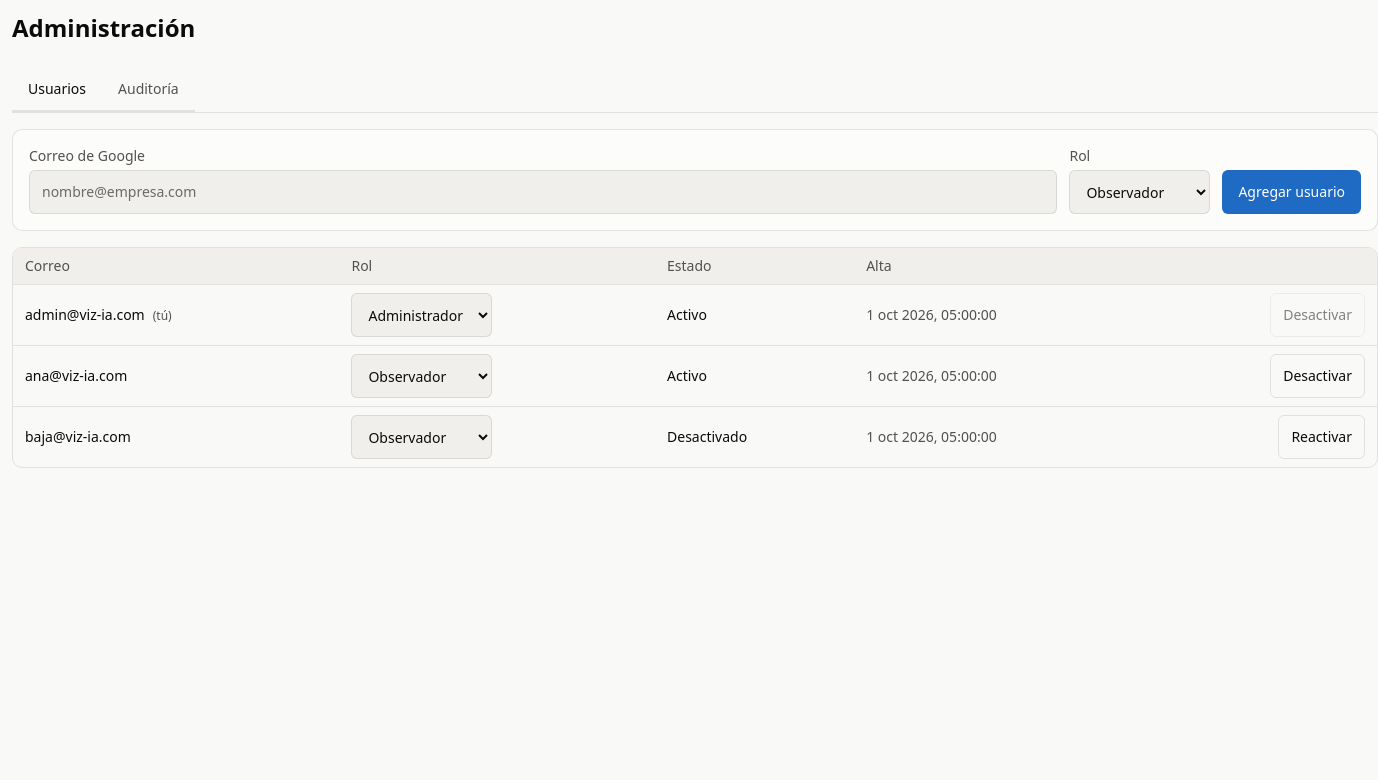
Scenario: AdminPage - usuarios › agrega un usuario con el correo en minúsculas y el rol elegido
The image size is (1378, 780).
Type " Nuevo@Viz-IA.com " into the field labelled "Correo de Google" at (543, 192), box [29,170,1057,214]
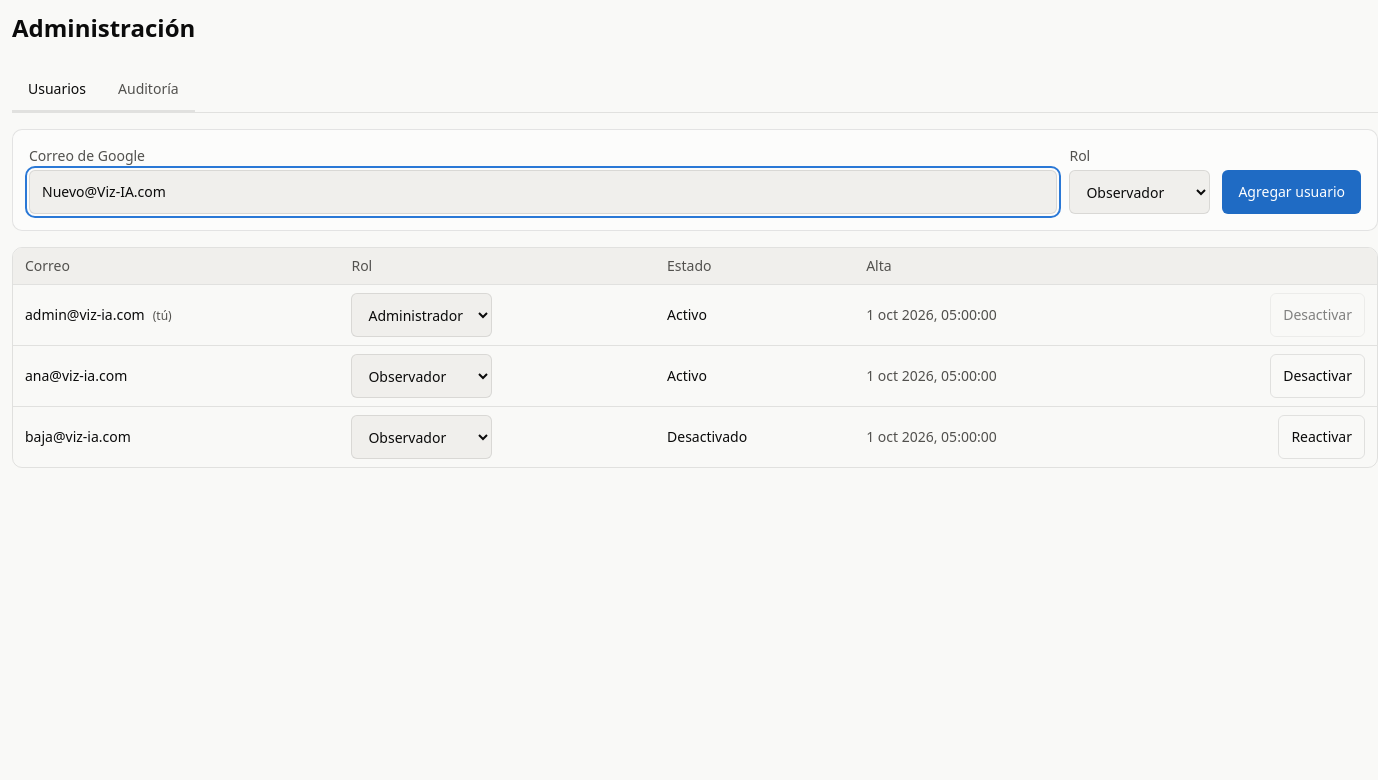
Select "Operador" in the dropdown labelled "Rol" at (1140, 192), box [1069,170,1210,214]
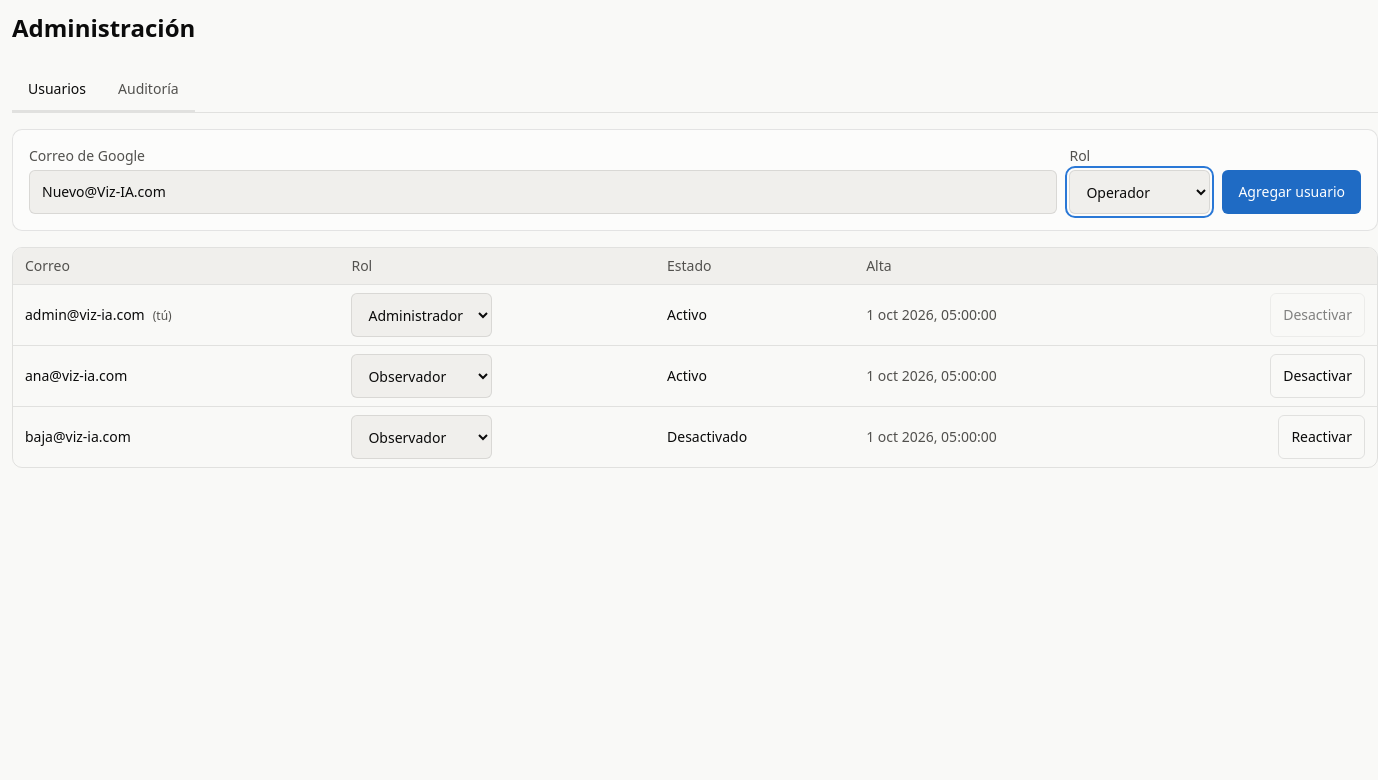
Click the button "Agregar usuario" at (1292, 192), box [1222,170,1361,214]
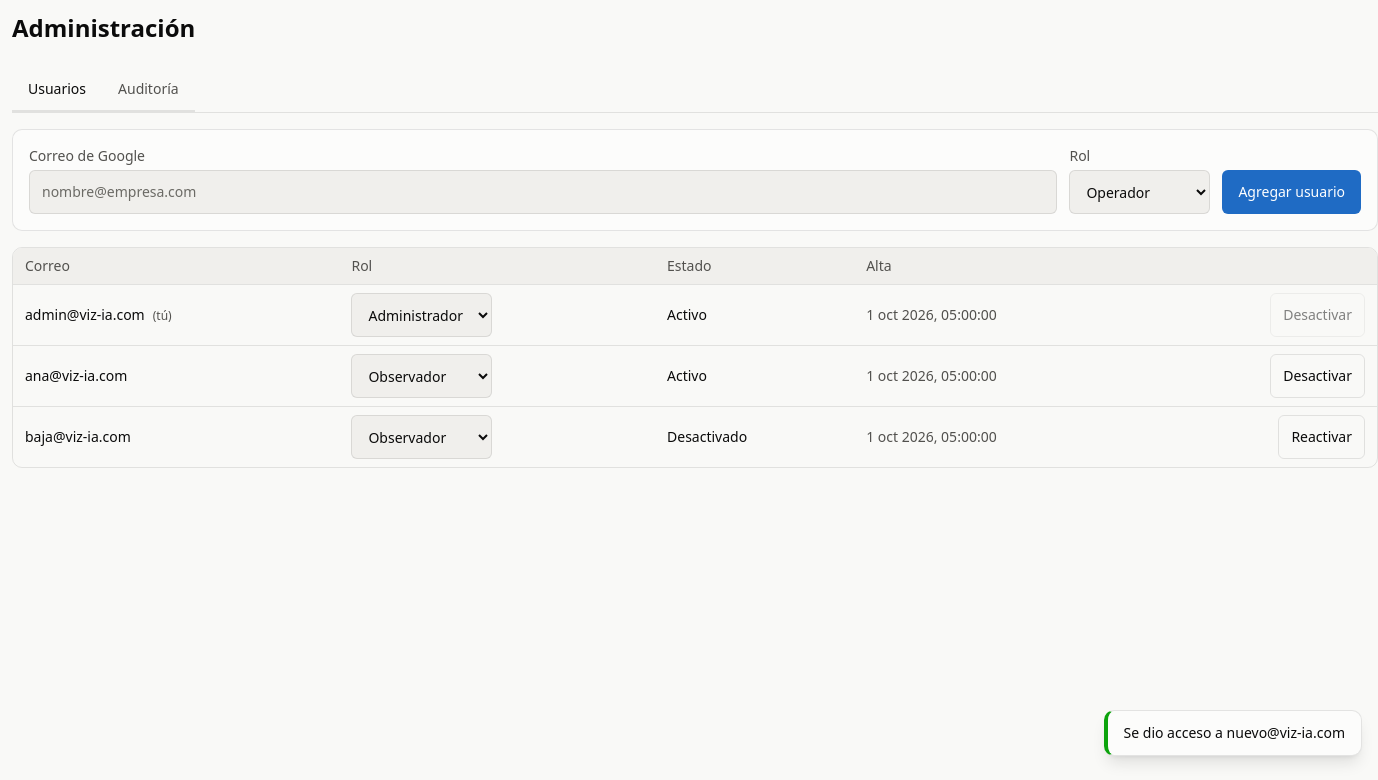
Expected: the text "Se dio acceso a nuevo@viz-ia.com" is shown, [1104,710,1362,756]
